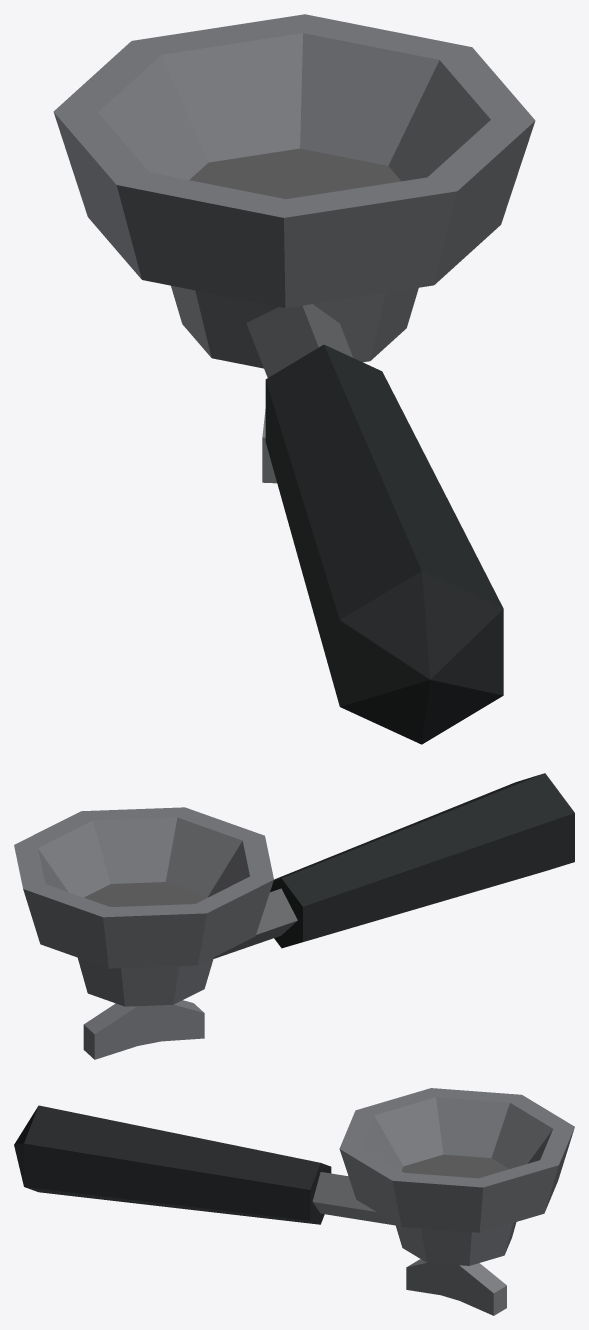
Rendered from SM_Prop_Cafe_Machine_Portafilter_01.obj.
3 renders of one model, top to bottom at view 1: azimuth 30°, elevation 25°; view 2: azimuth 150°, elevation 25°; view 3: azimuth 270°, elevation 25°, orthographic. The views are drawn at different scales.
Visible parts, largest first — view 1: SM_Prop_Cafe_Machine_Portafilter_01_0; view 2: SM_Prop_Cafe_Machine_Portafilter_01_0; view 3: SM_Prop_Cafe_Machine_Portafilter_01_0.
Part boxes in pixels (x1,y1,x2,y2): SM_Prop_Cafe_Machine_Portafilter_01_0: (53,14,535,744); SM_Prop_Cafe_Machine_Portafilter_01_0: (14,773,574,1059); SM_Prop_Cafe_Machine_Portafilter_01_0: (14,1088,574,1315).
Size of the model in its own units: 0.1333 by 0.073 by 0.2302.
1 material, 1 textured.
